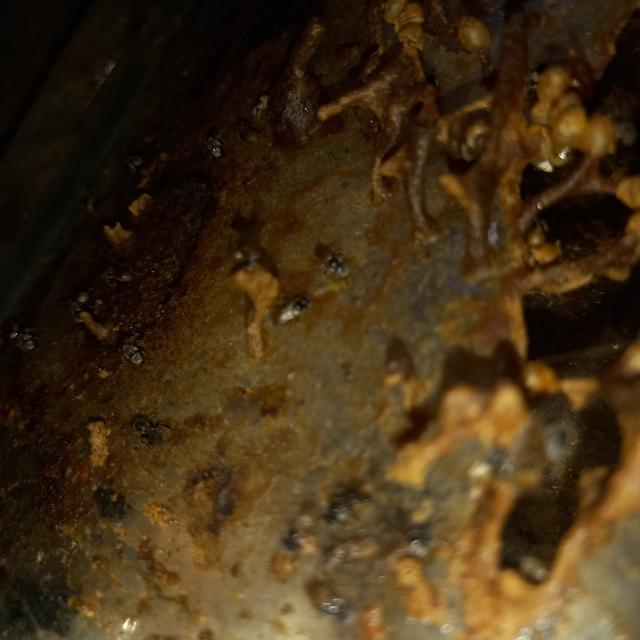honeybee: (310, 251, 383, 298), (265, 296, 315, 357), (98, 341, 160, 378), (115, 399, 162, 442), (7, 319, 37, 369), (333, 580, 376, 610)
